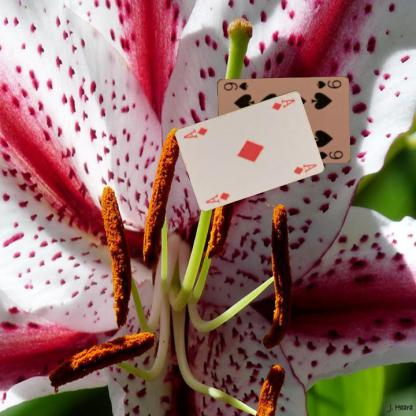9s: (314, 78, 342, 90)
Ad: (270, 96, 297, 112), (203, 190, 231, 204)
